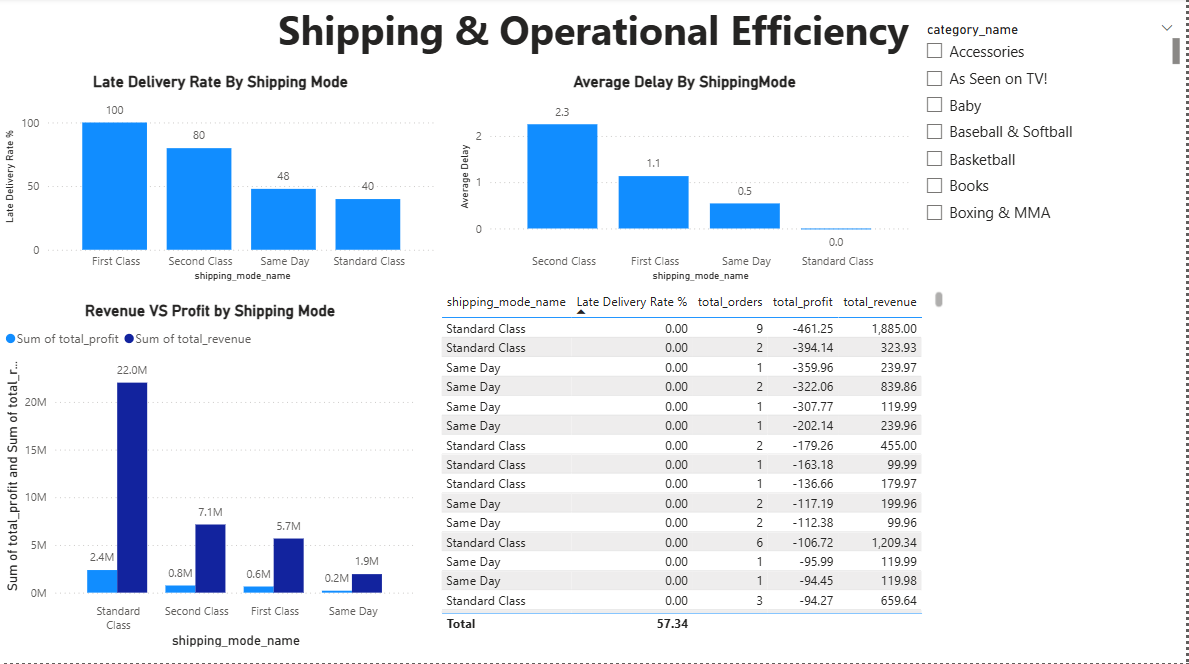

The page's visual inventory and layout, read from the dashboard file:
{"tool":"powerbi","page":{"name":"Page 4","canvas":[1280,720],"ordinal":3},"visuals":[{"type":"textbox","box":[0,0,1280.8,68],"z":0},{"type":"columnChart","title":"Late Delivery Rate By Shipping Mode","fields":{"Category":["analytics shipping_mode_performance.shipping_mode_name"],"Y":["analytics shipping_mode_performance.Late Delivery Rate %"]},"box":[0,81.3,476.2,230.6],"z":1},{"type":"columnChart","title":"Average Delay By ShippingMode","fields":{"Category":["analytics shipping_mode_performance.shipping_mode_name"],"Y":["analytics shipping_mode_performance.Average Delay"]},"box":[491.3,81.3,497,230.6],"z":2},{"type":"clusteredColumnChart","title":"Revenue VS Profit by Shipping Mode","fields":{"Category":["analytics shipping_mode_performance.shipping_mode_name"],"Y":["Sum(analytics shipping_mode_performance.total_profit)","Sum(analytics shipping_mode_performance.total_revenue)"]},"box":[0,328.8,453.5,378],"z":3},{"type":"tableEx","fields":{"Values":["analytics shipping_mode_performance.shipping_mode_name","analytics shipping_mode_performance.Late Delivery Rate %","analytics shipping_mode_performance.total_orders","analytics shipping_mode_performance.total_profit","analytics shipping_mode_performance.total_revenue"]},"box":[470.6,311.8,551.8,378],"z":4},{"type":"slicer","fields":{"Values":["analytics shipping_mode_performance.category_name"]},"box":[988.4,20.8,291,230.6],"z":5}]}

Visuals, with their boxes in screenshot pixels (x1, y1, x2, y2), scaled from the page's 1280x720 canvas onto the 1189x664 screenshot:
textbox: pyautogui.locateOnScreen(0, 0, 1188, 63)
"Late Delivery Rate By Shipping Mode" columnChart: pyautogui.locateOnScreen(0, 75, 442, 288)
"Average Delay By ShippingMode" columnChart: pyautogui.locateOnScreen(456, 75, 918, 288)
"Revenue VS Profit by Shipping Mode" clusteredColumnChart: pyautogui.locateOnScreen(0, 303, 421, 652)
tableEx - analytics shipping_mode_performance.shipping_mode_name x analytics shipping_mode_performance.Late Delivery Rate %: pyautogui.locateOnScreen(437, 288, 950, 636)
slicer - analytics shipping_mode_performance.category_name: pyautogui.locateOnScreen(918, 19, 1188, 232)
